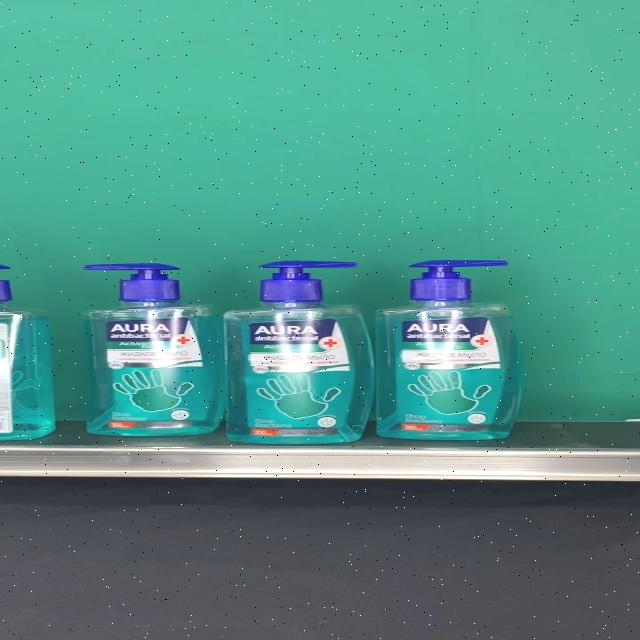Bottle: (224, 260, 376, 442), (376, 260, 523, 440), (80, 263, 227, 434)
Cap: (407, 260, 509, 302), (259, 260, 357, 302), (84, 263, 182, 301)
